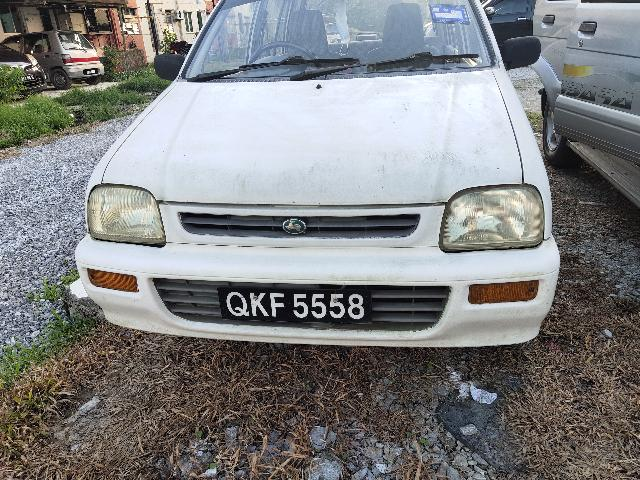License_Plate: (218, 288, 372, 322)
car: (78, 1, 564, 357)
